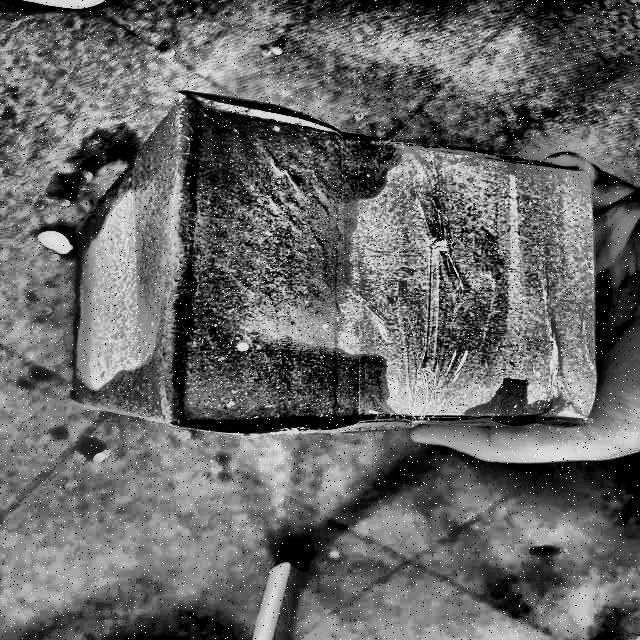box: (54, 102, 616, 442)
wet: (140, 90, 392, 432)
